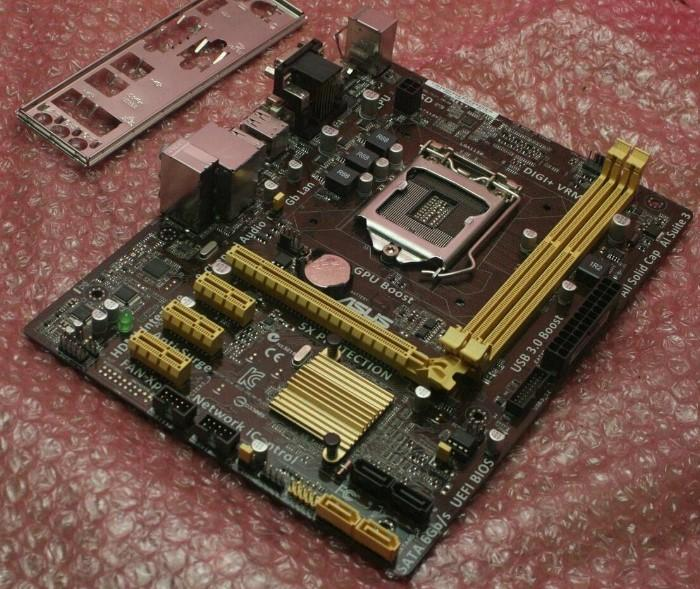Printed Circuit Board PCB: (24, 10, 695, 580)
